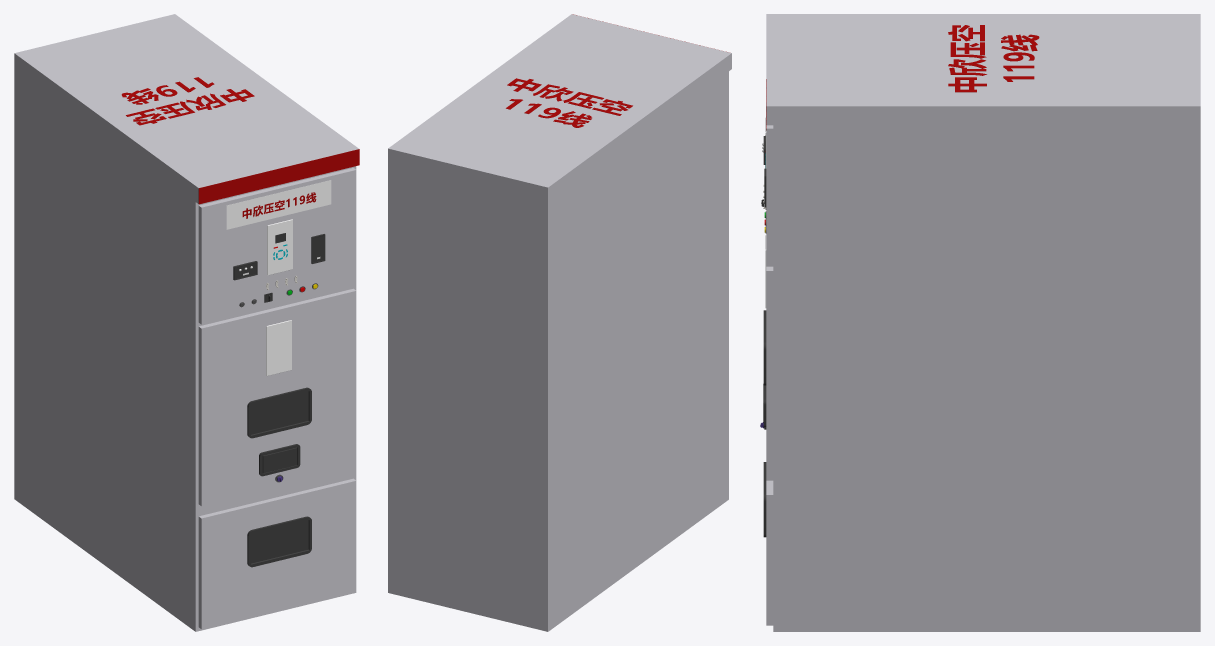
The model's file is 3-6-processed.gltf.
3 views of the same model, side by side, from view 1: azimuth 30°, elevation 25°; view 2: azimuth 150°, elevation 25°; view 3: azimuth 270°, elevation 25° (orthographic). The views are drawn at different scales.
Parts seen in each view (by area): view 1: Rectangle8892, Rectangle8895, Rectangle8894, Obj3d66_1138023_124_1059, Obj3d66_1138023_124_1058, Rectangle8893, Text374, Obj3d66_1138023_187_726, Obj3d66_1138023_187_725, Obj3d66_1138023_127_223, Text373; view 2: Rectangle8892, Text374; view 3: Rectangle8892, Rectangle8895, Text374.
Boxes of the visible parts, box(x1,y1,x2,y2) form: Rectangle8892: box(14, 14, 358, 631); Rectangle8895: box(198, 168, 356, 629); Rectangle8894: box(198, 149, 359, 204); Obj3d66_1138023_124_1059: box(247, 516, 311, 567); Obj3d66_1138023_124_1058: box(247, 387, 311, 438); Rectangle8893: box(226, 180, 331, 229); Text374: box(121, 77, 254, 125); Obj3d66_1138023_187_726: box(266, 320, 291, 375); Obj3d66_1138023_187_725: box(267, 219, 292, 275); Obj3d66_1138023_127_223: box(259, 444, 300, 476); Text373: box(242, 192, 316, 218); Rectangle8892: box(388, 14, 731, 631); Text374: box(506, 78, 632, 127); Rectangle8892: box(766, 14, 1200, 631); Rectangle8895: box(766, 125, 773, 625); Text374: box(948, 25, 1039, 92).
Bounding box in the file's own units: 830 × 2201 × 1671.
